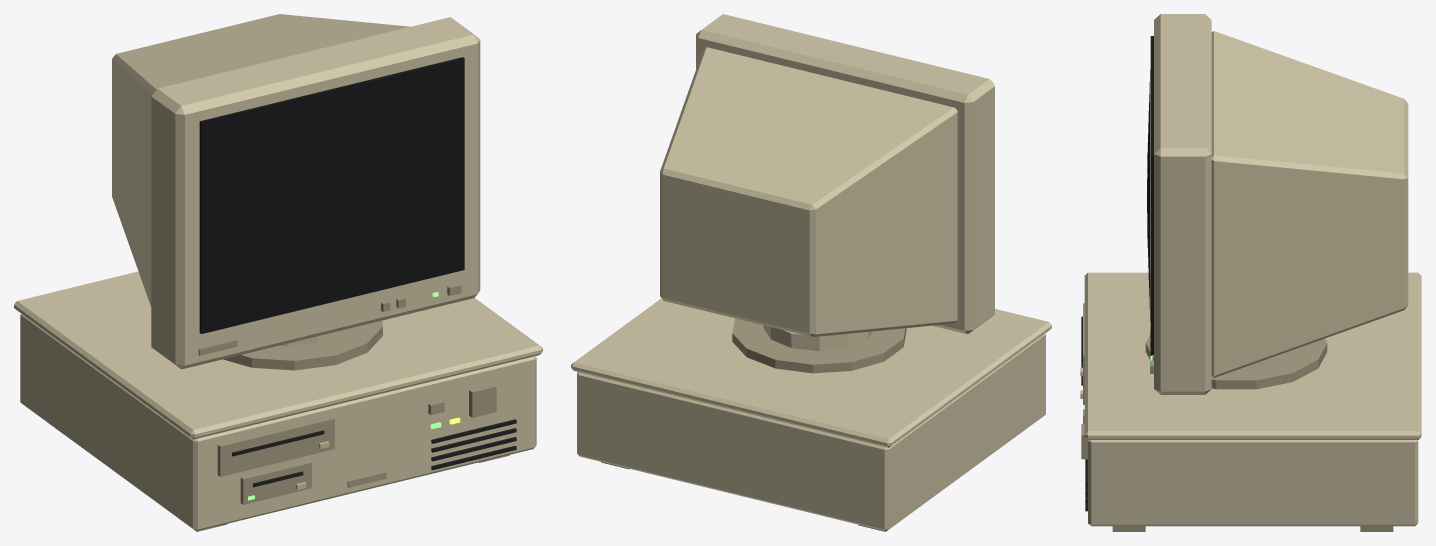
Rendered from WordlePC2.fbx.
The picture shows the model from 3 angles, left to right: view 1: azimuth 30°, elevation 25°; view 2: azimuth 150°, elevation 25°; view 3: azimuth 270°, elevation 25°; orthographic projection. The views are drawn at different scales.
Visible parts, largest first — view 1: Monitor_Screen; view 2: Monitor_Screen; view 3: Monitor_Screen.
Part boxes in pixels (x1=…): Monitor_Screen: x1=14, y1=14, x2=542, y2=531; Monitor_Screen: x1=571, y1=14, x2=1051, y2=531; Monitor_Screen: x1=1080, y1=14, x2=1421, y2=531.
Bounding box in the file's own units: 46.2 × 41.3 × 50.7.
Materials: 7 (1 with a texture image).
